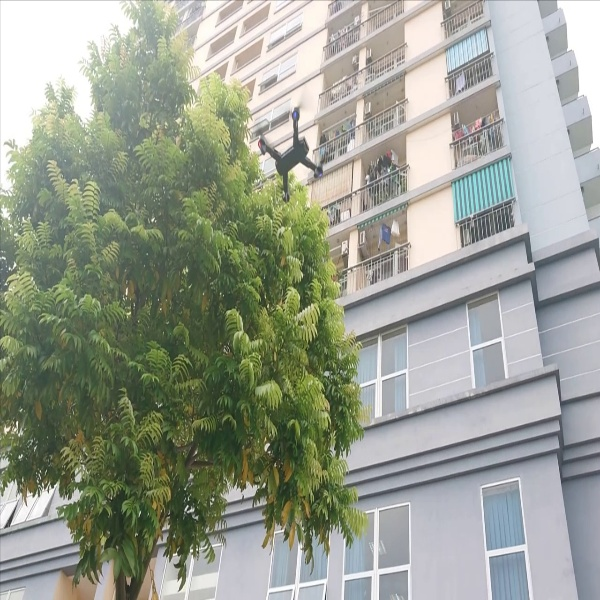drone: (252, 99, 328, 207)
